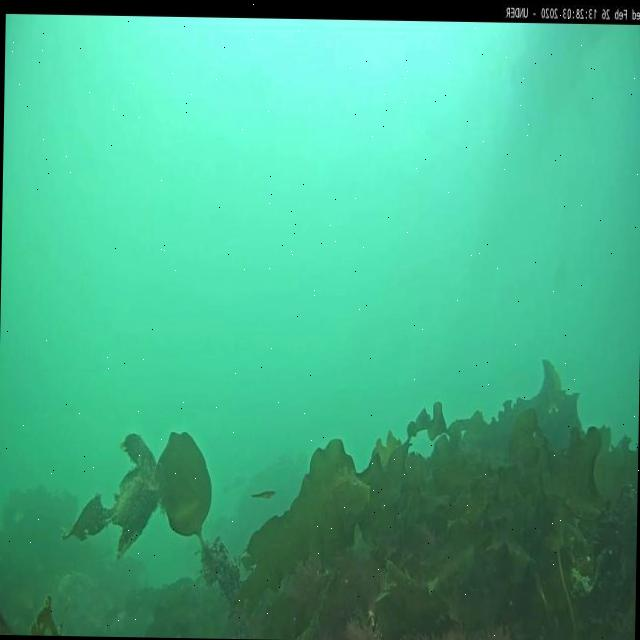fish: (252, 486, 274, 502)
